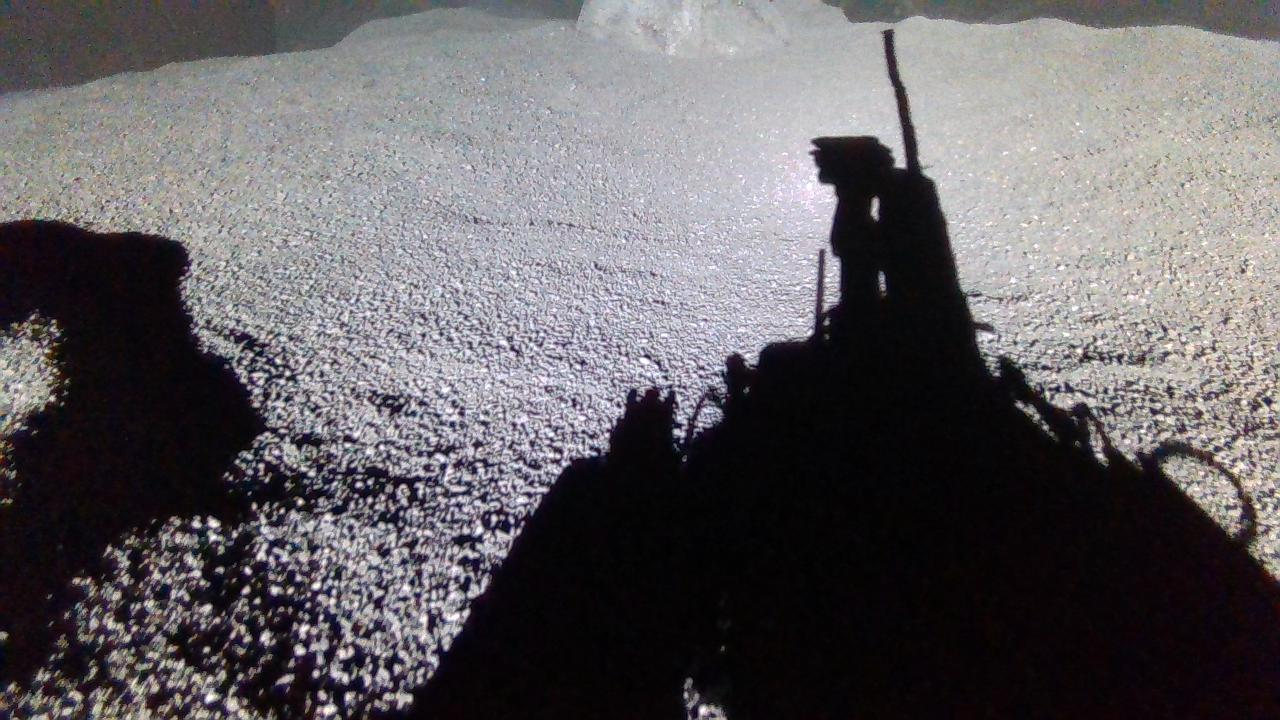rock: (577, 0, 789, 56)
